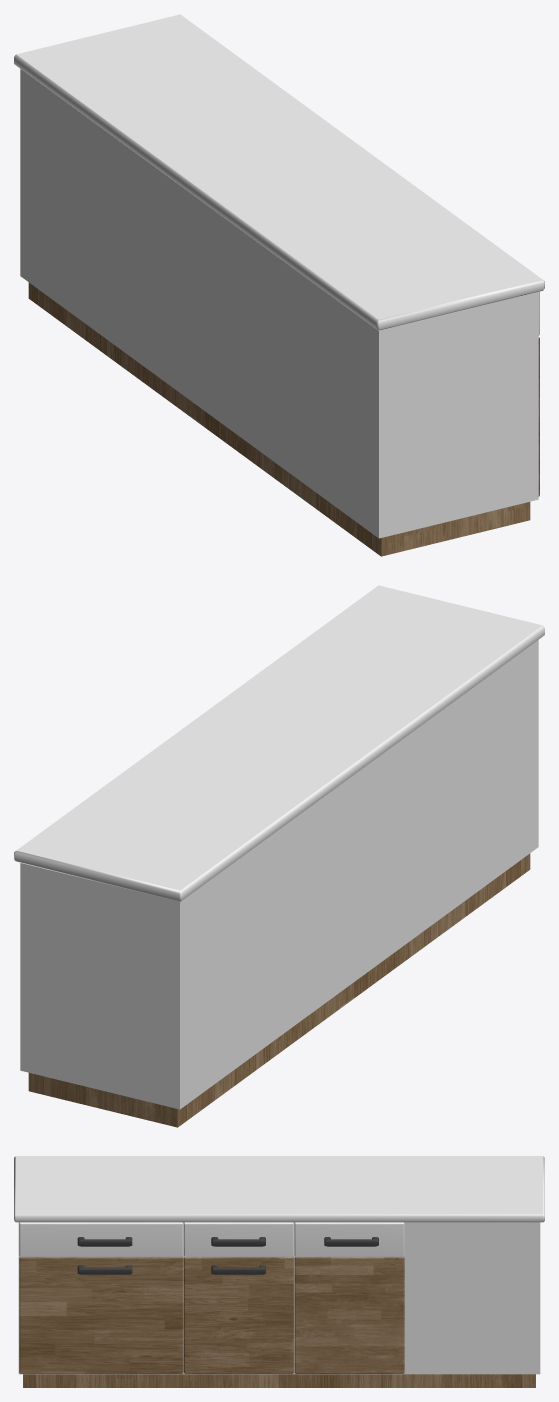
Rendered from kitchen_068.fbx.
3 views of the same model, one above another, from view 1: azimuth 30°, elevation 25°; view 2: azimuth 150°, elevation 25°; view 3: azimuth 270°, elevation 25° (orthographic). The views are drawn at different scales.
Parts seen in each view (by area): view 1: kitchen_068; view 2: kitchen_068; view 3: kitchen_068.
Part boxes in pixels (x1=…): kitchen_068: x1=14, y1=14, x2=544, y2=556; kitchen_068: x1=14, y1=585, x2=544, y2=1127; kitchen_068: x1=14, y1=1156, x2=544, y2=1387.
Bounding box in the file's own units: 84.01 × 299 × 110.
